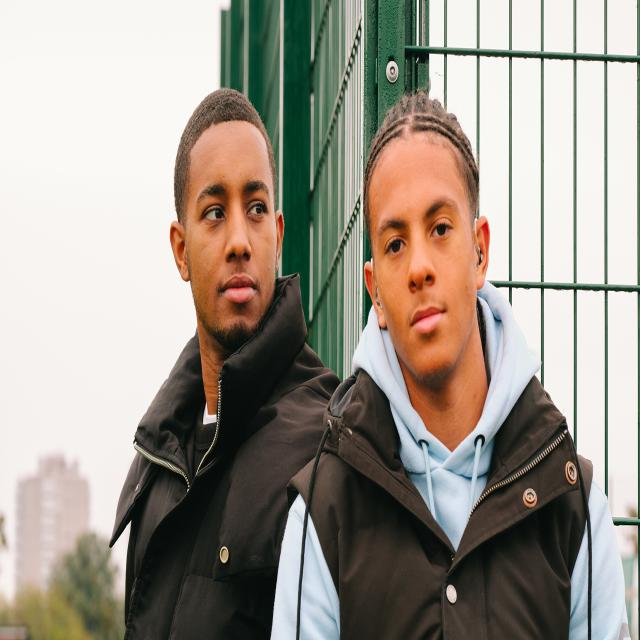sem_oculos: (156, 180, 284, 237), (351, 213, 491, 259)
